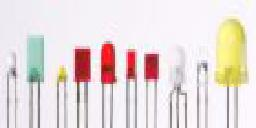LED: (216, 18, 250, 128), (168, 44, 189, 128), (196, 19, 212, 128), (72, 47, 95, 122), (4, 42, 21, 128), (24, 33, 47, 92), (100, 37, 118, 93), (141, 50, 164, 92), (121, 49, 139, 93), (57, 64, 72, 94)
